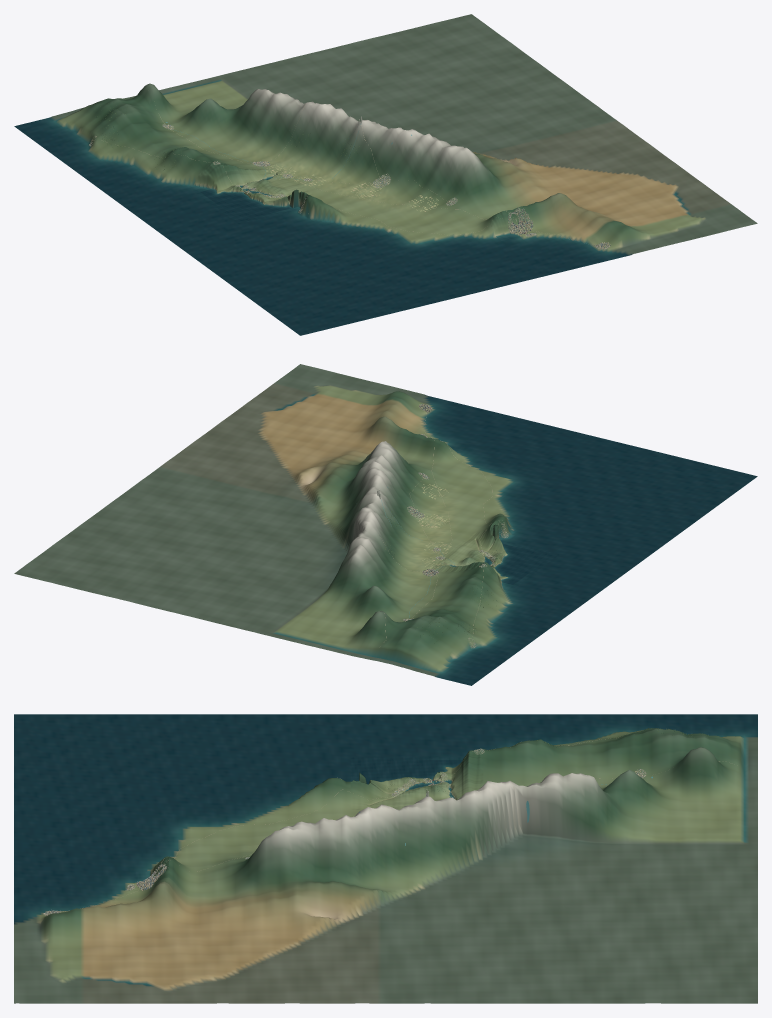
The model's file is sandbox.glb.
The picture shows the model from 3 angles, top to bottom: view 1: azimuth 30°, elevation 25°; view 2: azimuth 150°, elevation 25°; view 3: azimuth 270°, elevation 25°; orthographic projection. The views are drawn at different scales.
Parts seen in each view (by area): view 1: california-terrain, california-regional-centers, california-central-valley-fields; view 2: california-terrain, california-central-valley-fields; view 3: california-terrain.
Boxes of the visible parts, left/top/right/bottom form: california-terrain: left=14, top=14, right=757, bottom=335; california-regional-centers: left=89, top=124, right=610, bottom=249; california-central-valley-fields: left=266, top=164, right=438, bottom=211; california-terrain: left=14, top=364, right=757, bottom=685; california-central-valley-fields: left=416, top=484, right=453, bottom=568; california-terrain: left=14, top=714, right=757, bottom=1003.
Size of the model in its own units: 465 by 48.09 by 504.
